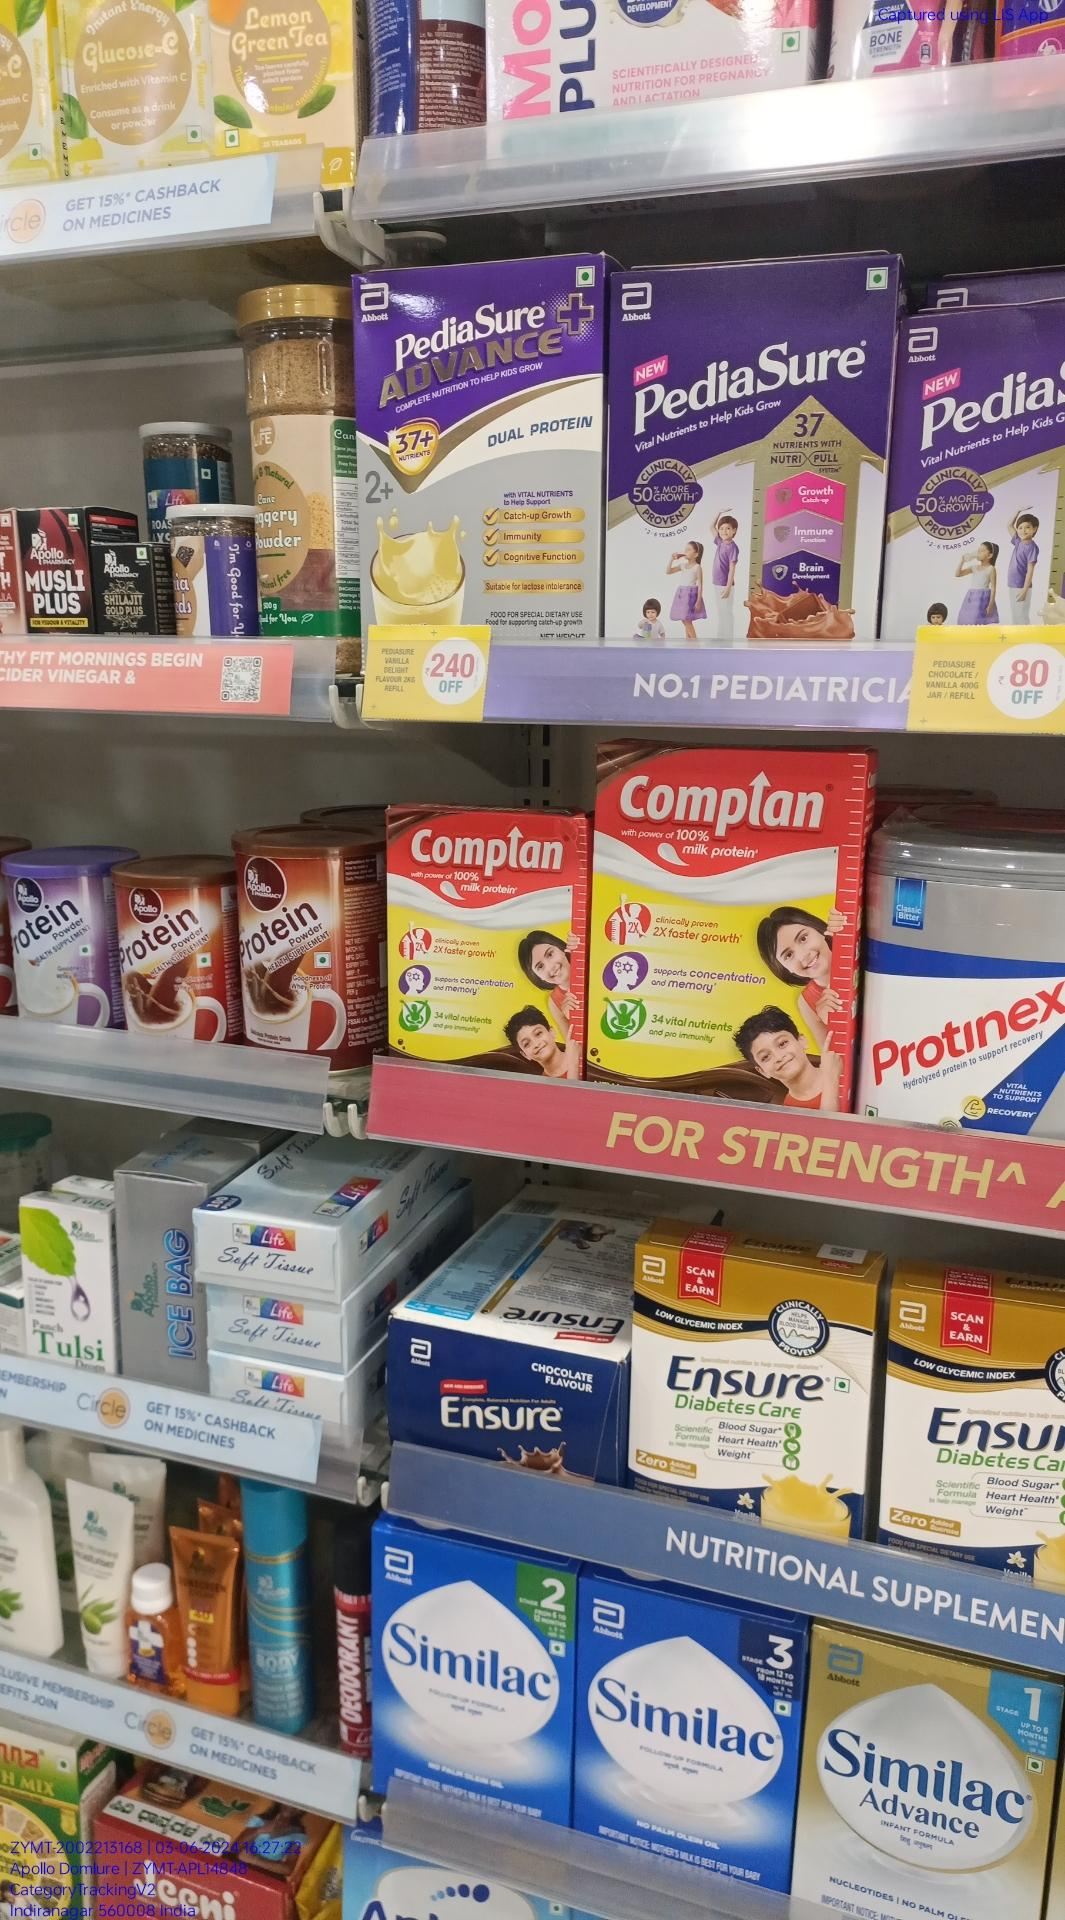COMPLAN_CHOCOLATE_200_GMS_PACK: (384, 812, 582, 1079)
COMPLAN_CHOCOLATE_500_GMS_PACK: (594, 748, 856, 1112)
PEDIASURE_CHOCOLATE_500_G_PACK: (607, 273, 884, 637)
PROTINEX_ORIGINAL_400_G_JAR: (871, 852, 1065, 1138)
